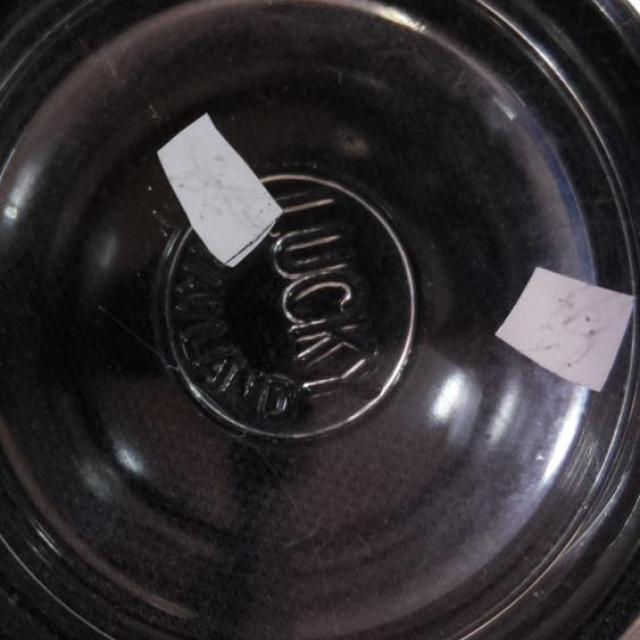fiber: (149, 104, 286, 278), (485, 254, 639, 396)
